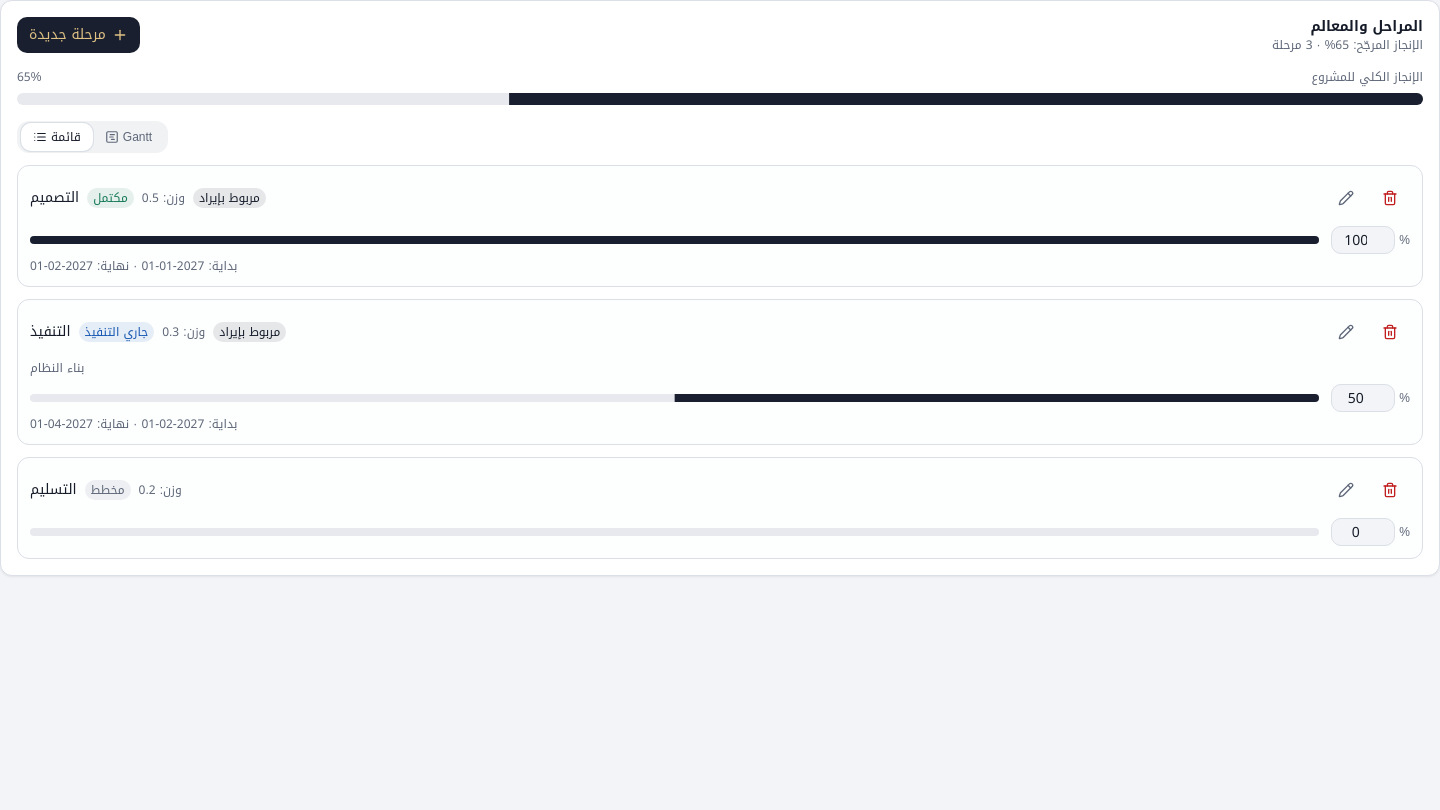
Test case: adding a milestone › refuses a milestone with no name
Later steps or results of the test are not shown.
Click the button "مرحلة جديدة" at (78, 35), box [17, 17, 140, 53]
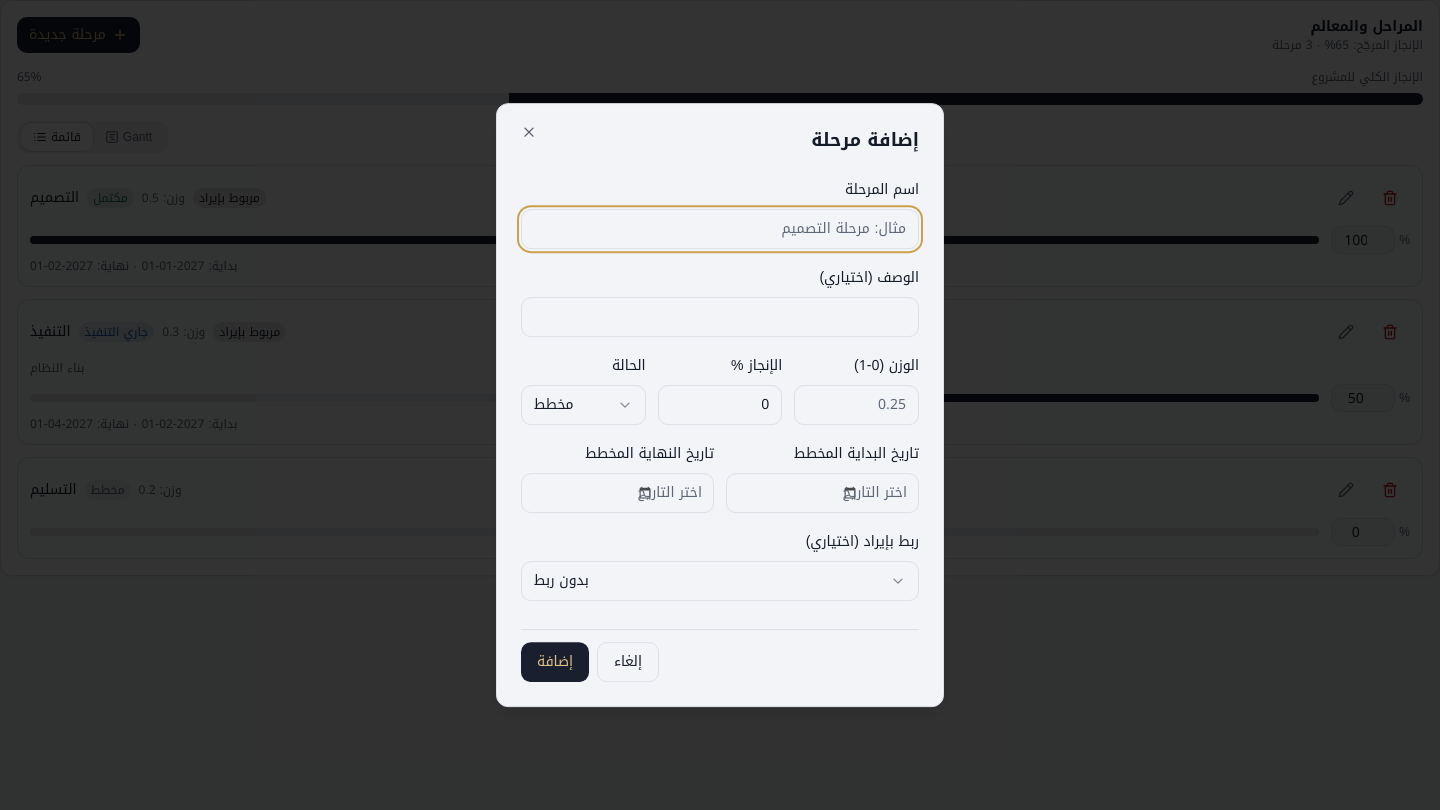
Expected: the heading "إضافة مرحلة" is shown, [811, 123, 919, 157]
